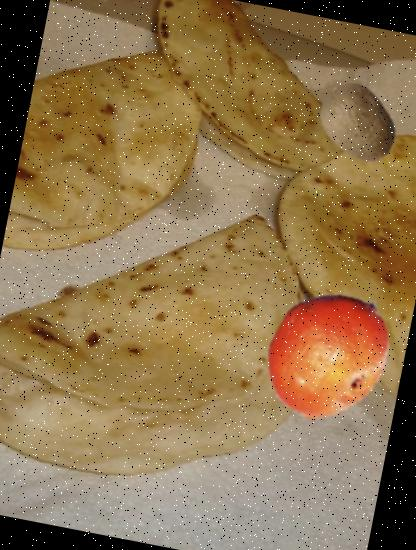Clementine: (248, 270, 410, 432)
Kiwi: (308, 74, 408, 174)
